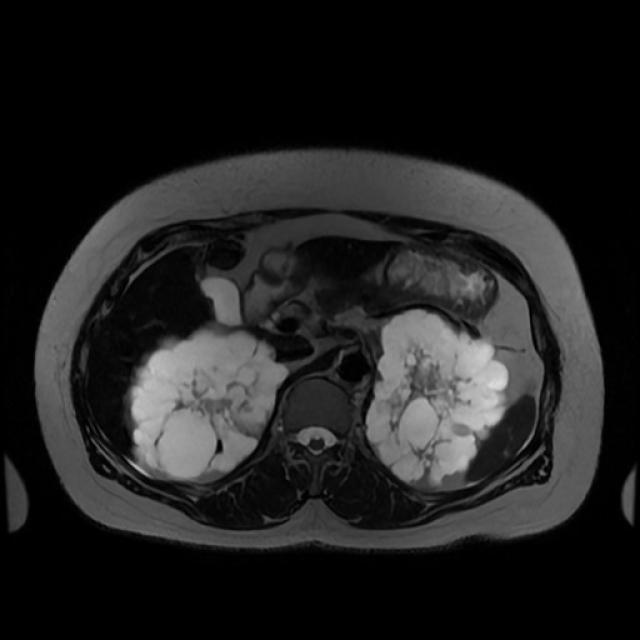sag: (130, 330, 288, 479)
sol: (365, 308, 510, 486)
